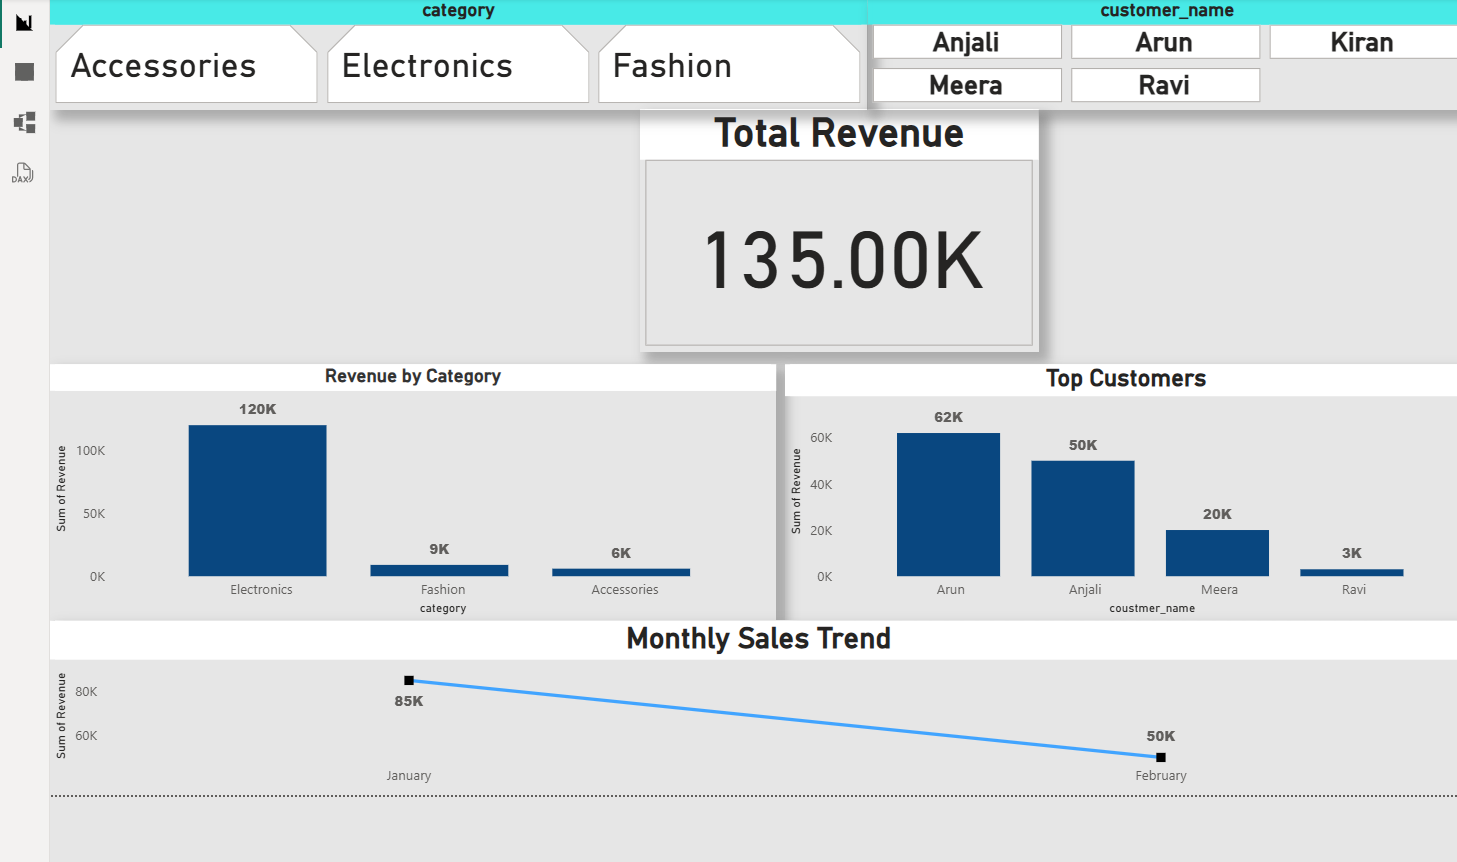

What the dashboard file says about the page in this screenshot:
{"tool":"powerbi","page":{"name":"Page 1","canvas":[1280,720],"ordinal":0},"visuals":[{"type":"cardVisual","title":"Total Revenue","fields":{"Data":["Sum(ecommerce_analysis order_items.Revenue)"]},"box":[533,100.5,360.2,219.1],"z":0},{"type":"clusteredColumnChart","title":"Revenue by Category","fields":{"Category":["ecommerce_analysis products.category"],"Y":["Sum(ecommerce_analysis order_items.Revenue)"]},"box":[0,330.8,656,231.5],"z":1000},{"type":"clusteredColumnChart","title":"Top Customers","fields":{"Category":["ecommerce_analysis coustmers.coustmer_name"],"Y":["Sum(ecommerce_analysis order_items.Revenue)"]},"box":[663.9,330.8,616.5,231.5],"z":2000},{"type":"lineChart","title":"Monthly Sales Trend","fields":{"Category":["ecommerce_analysis orders.order_date.Variation.Date Hierarchy.Month"],"Y":["Sum(ecommerce_analysis order_items.Revenue)"]},"box":[0,562.3,1280.5,158.1],"z":3000},{"type":"advancedSlicerVisual","fields":{"Values":["ecommerce_analysis products.category"]},"box":[0,0,738.2,100.9],"z":4000},{"type":"advancedSlicerVisual","title":"customer_name","fields":{"Values":["ecommerce_analysis coustmers.coustmer_name"]},"box":[738.5,0,542,100.5],"z":5000}]}

Visuals, with their boxes on the page's 1280x720 design canvas (x1, y1, x2, y2). These are canvas units, not pixel positions in the 1457x862 screenshot, which may show the page scaled, cropped or inside an application window:
"Total Revenue" cardVisual: 533 100 893 320
"Revenue by Category" clusteredColumnChart: 0 331 656 562
"Top Customers" clusteredColumnChart: 664 331 1280 562
"Monthly Sales Trend" lineChart: 0 562 1280 720
advancedSlicerVisual - ecommerce_analysis products.category: 0 0 738 101
"customer_name" advancedSlicerVisual: 738 0 1280 100
